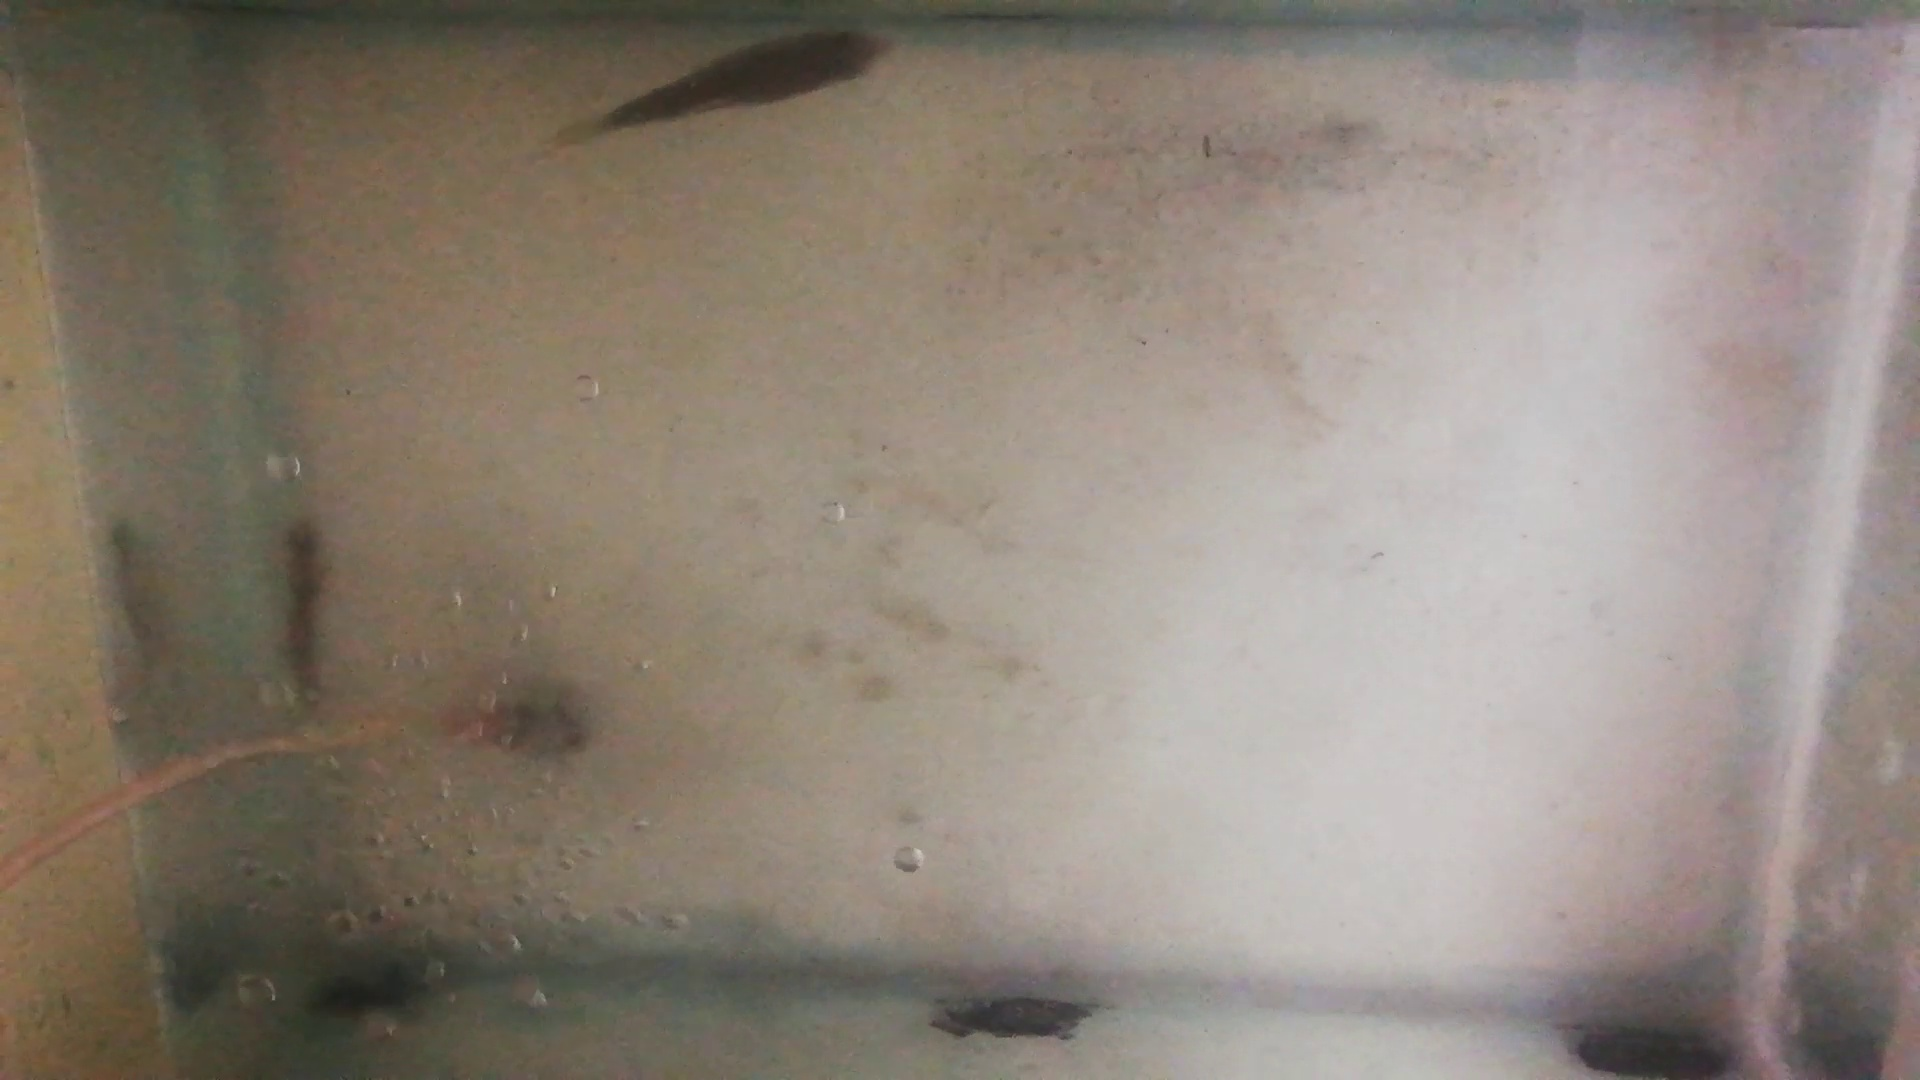fish: (607, 26, 895, 128), (266, 518, 330, 698)
